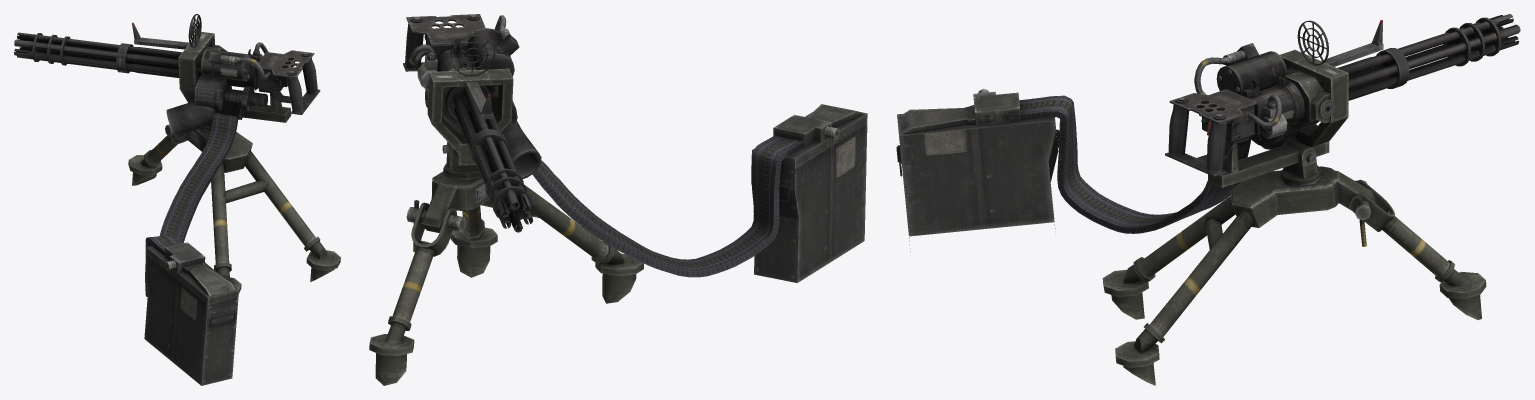
Rendered from MachineGun.FBX.
3 views of the same model, side by side, from view 1: azimuth 30°, elevation 25°; view 2: azimuth 150°, elevation 25°; view 3: azimuth 270°, elevation 25° (orthographic). The views are drawn at different scales.
Visible parts, largest first — view 1: DrawCall_0590; view 2: DrawCall_0590; view 3: DrawCall_0590.
Boxes of the visible parts, x1=… form: DrawCall_0590: x1=14, y1=14, x2=340, y2=385; DrawCall_0590: x1=369, y1=14, x2=867, y2=385; DrawCall_0590: x1=896, y1=14, x2=1520, y2=385.
Bounding box in the file's own units: 97.79 × 93.12 × 163.
